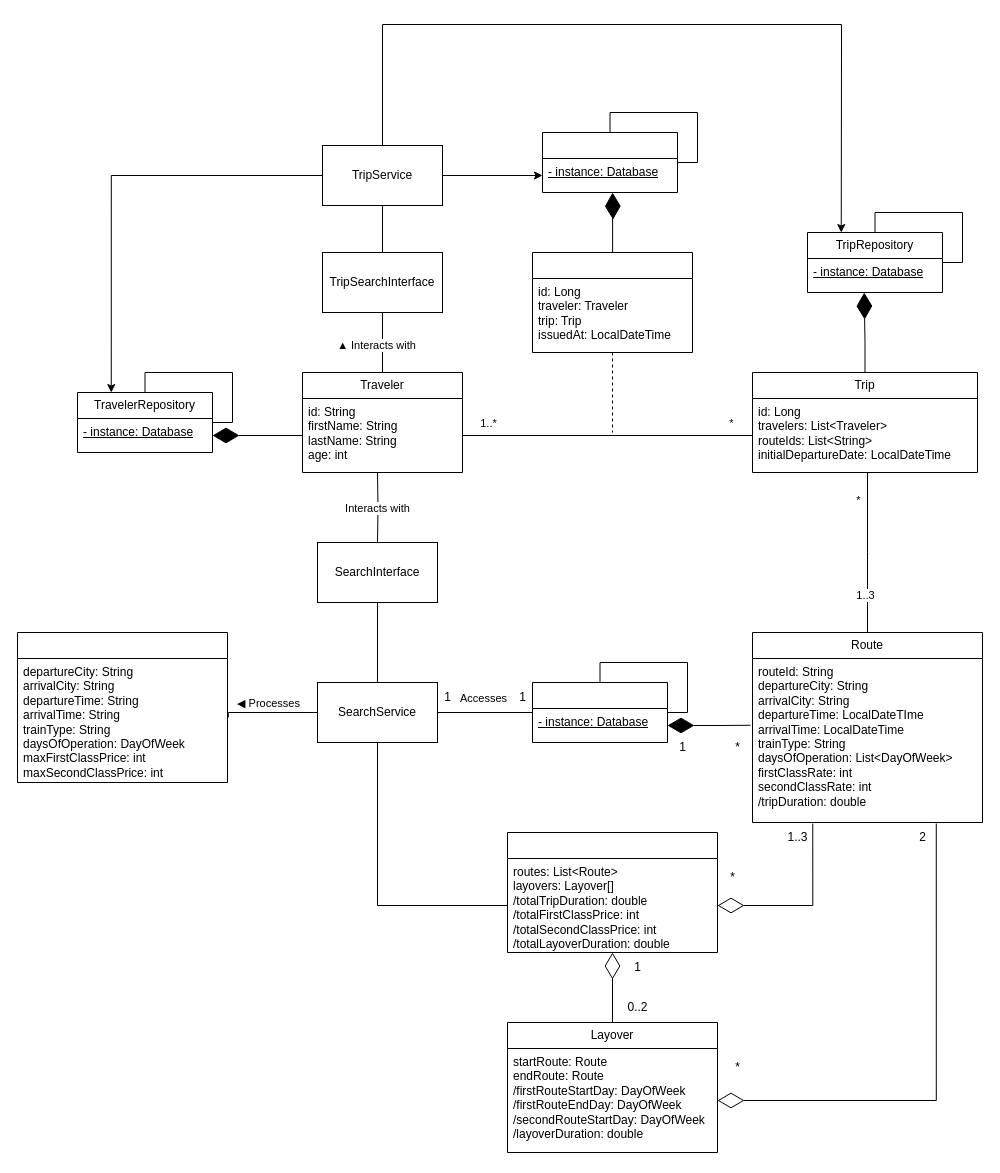
This 1000x1173 diagram has some shape labels left out. The box of each missing label's shape, as (x1, y1, x2, y2) in pixels:
Connection: (506, 832, 718, 952)
RouteRepository: (532, 682, 668, 742)
SearchCriteria: (16, 632, 228, 782)
Ticket: (532, 252, 692, 352)
TicketRepository: (542, 132, 678, 192)
